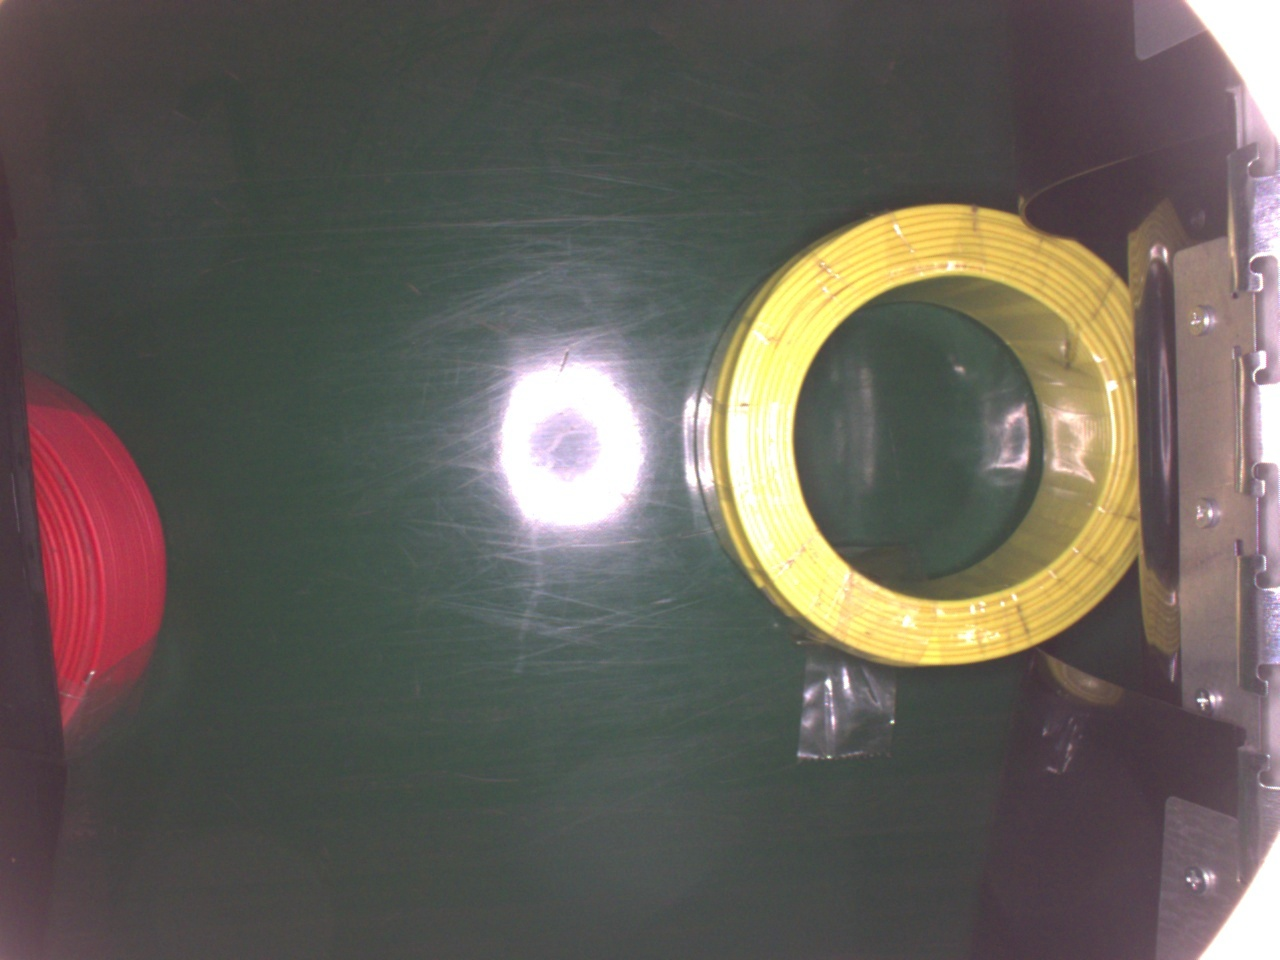red: (28, 371, 168, 757)
yellow: (693, 195, 1140, 670)
